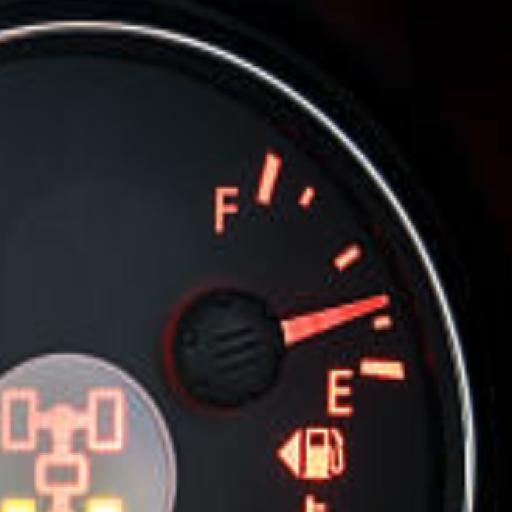empty: (322, 359, 359, 422)
fuel_icon: (277, 424, 352, 485)
full: (205, 175, 245, 244)
guage_area: (16, 80, 458, 508)
needle_center: (160, 284, 305, 413)
needle_tip: (350, 282, 399, 326)
